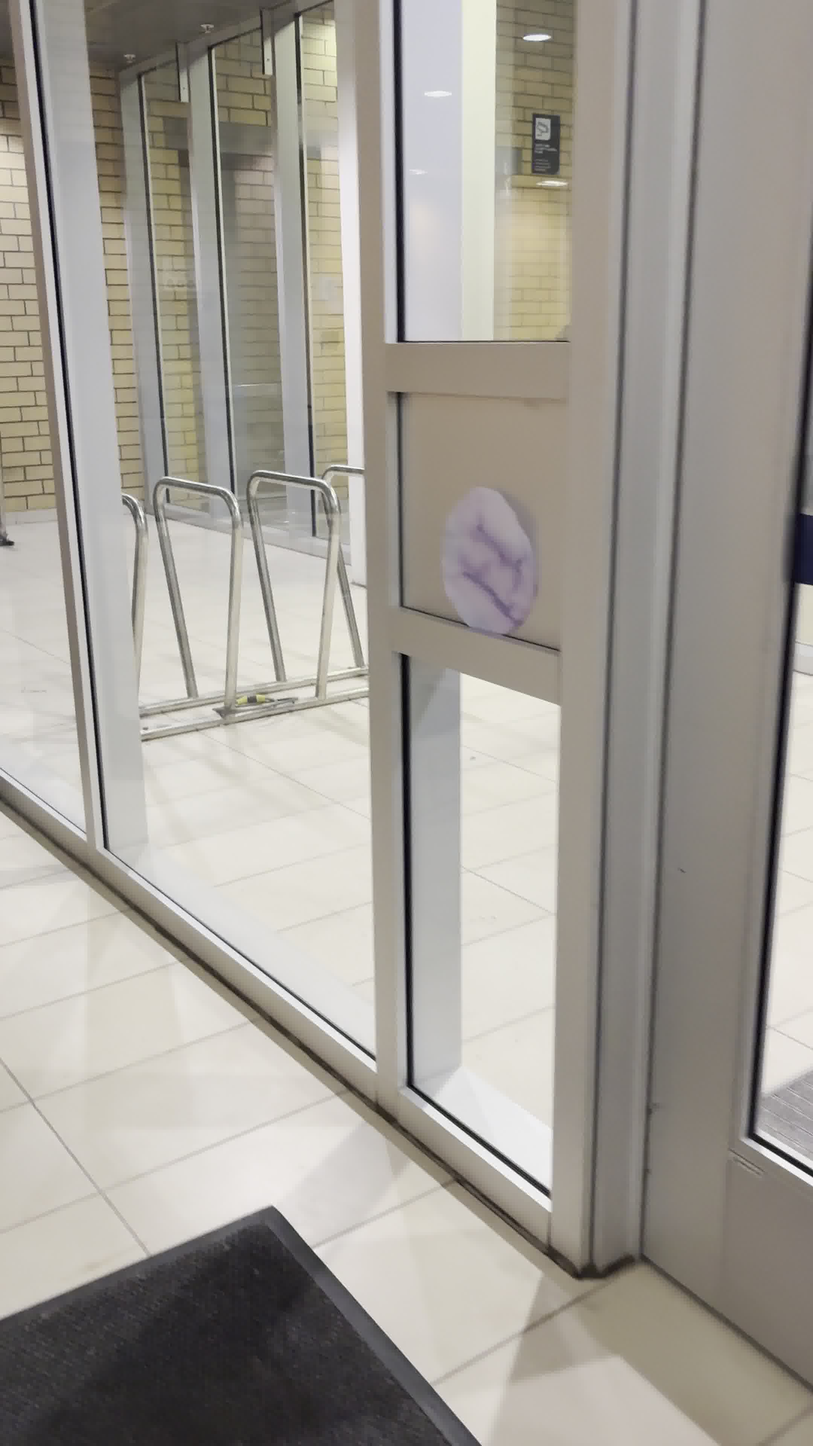Target: (431, 482, 554, 635)
